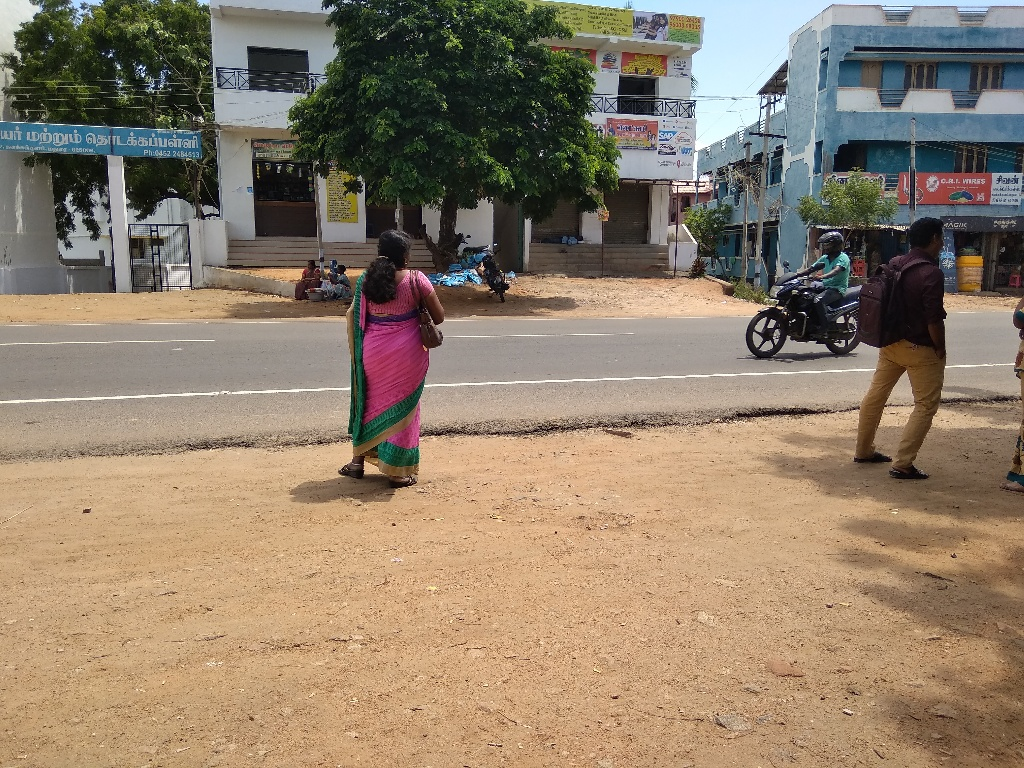biker: (740, 217, 873, 363)
helmet: (814, 225, 849, 265)
